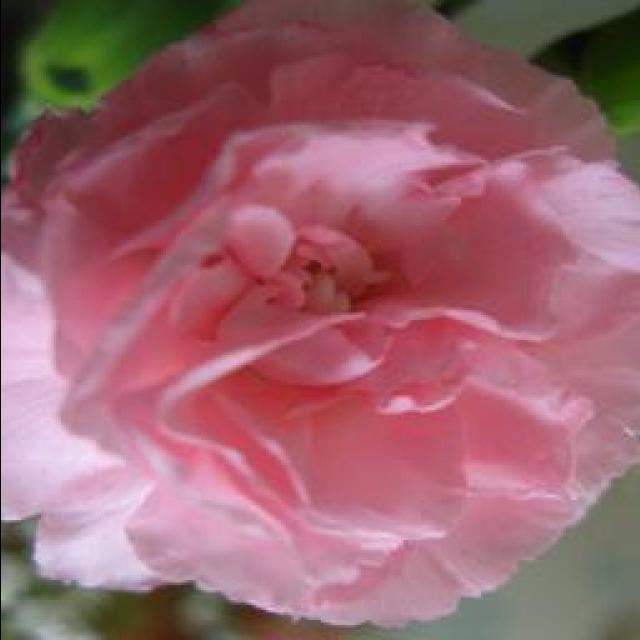carnation: (13, 6, 640, 619)
